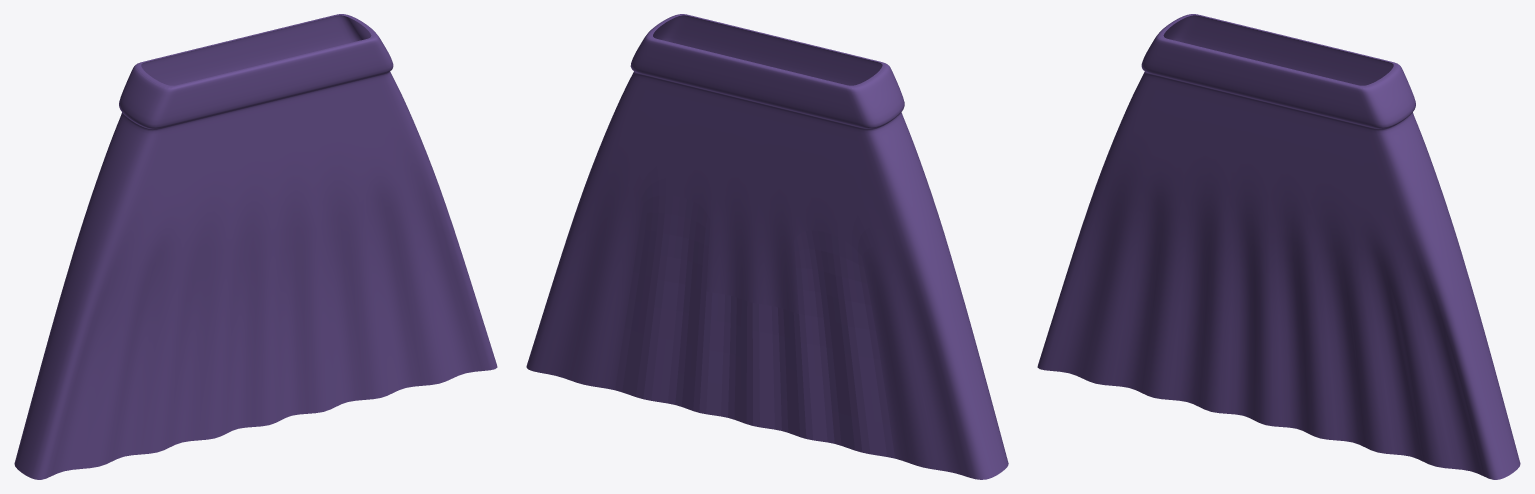
File: skirt.fbx
3 renders of one model, left to right at view 1: azimuth 30°, elevation 25°; view 2: azimuth 150°, elevation 25°; view 3: azimuth 330°, elevation 25°, orthographic.
Parts seen in each view (by area): view 1: Skirt; view 2: Skirt; view 3: Skirt.
Boxes of the visible parts, left/top/right/bottom form: Skirt: left=14, top=14, right=497, bottom=479; Skirt: left=526, top=14, right=1008, bottom=479; Skirt: left=1037, top=14, right=1520, bottom=479.
Size of the model in its own units: 23.14 by 174 by 129.
